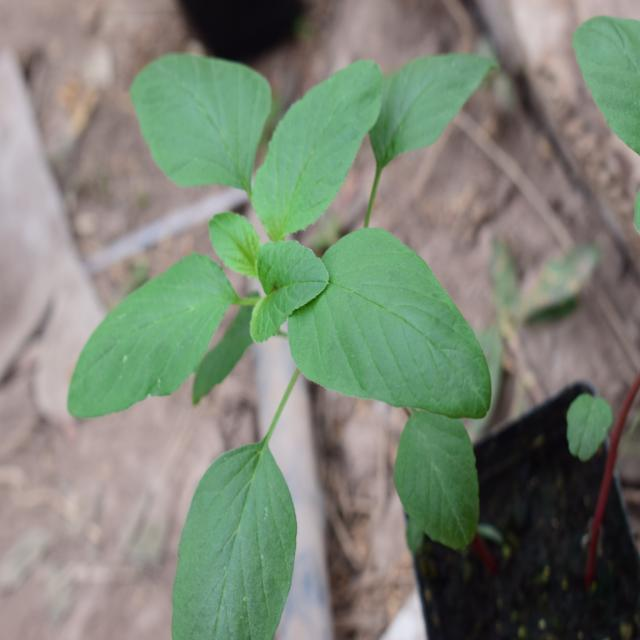pigweed: (95, 24, 507, 573)
